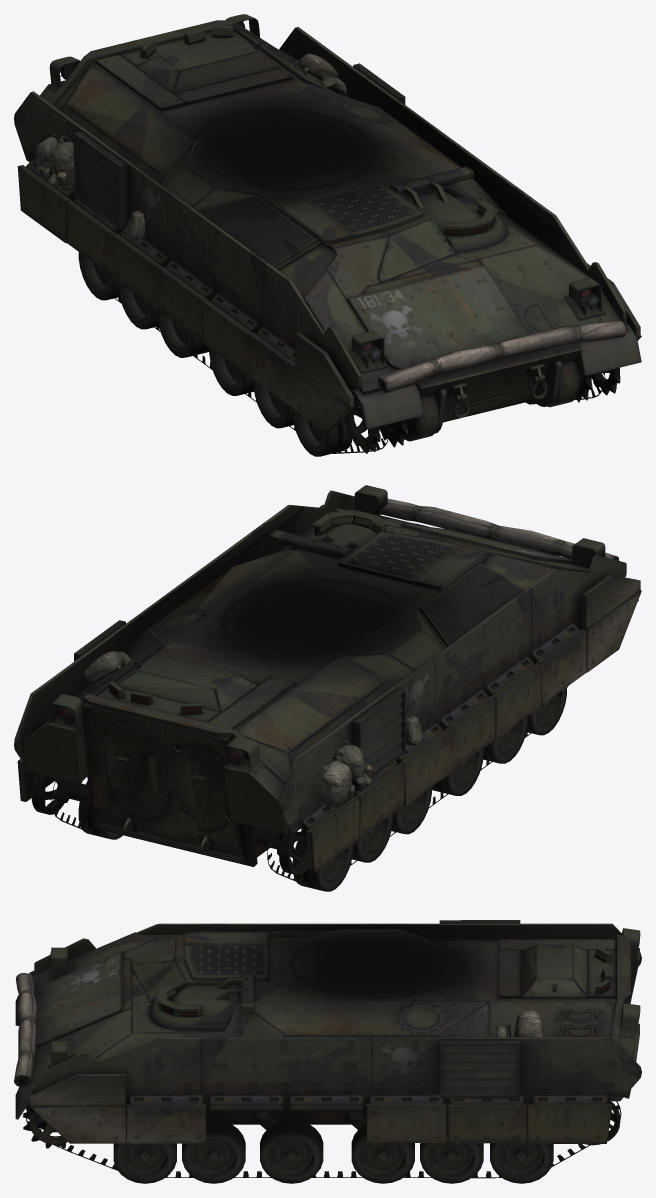
File: m2_bradley_ifv.glb
The picture shows the model from 3 angles, top to bottom: view 1: azimuth 30°, elevation 25°; view 2: azimuth 150°, elevation 25°; view 3: azimuth 270°, elevation 25°; orthographic projection. The views are drawn at different scales.
Parts seen in each view (by area): view 1: body_lod0, bagsbagsba; view 2: body_lod0, bagsbagsba; view 3: body_lod0, bagsbagsba, Object04_13 - Default_0.
Boxes of the visible parts, x1,y1,x2,y2 form: body_lod0: (14,14,641,456); bagsbagsba: (36,53,625,393); body_lod0: (14,485,641,891); bagsbagsba: (84,498,618,807); body_lod0: (15,920,641,1183); bagsbagsba: (14,973,545,1086); Object04_13 - Default_0: (26,1101,621,1178).
Size of what is drawn, in the model's own units: 1.33 by 0.8249 by 2.67.
Materials: 4 (4 with a texture image).
